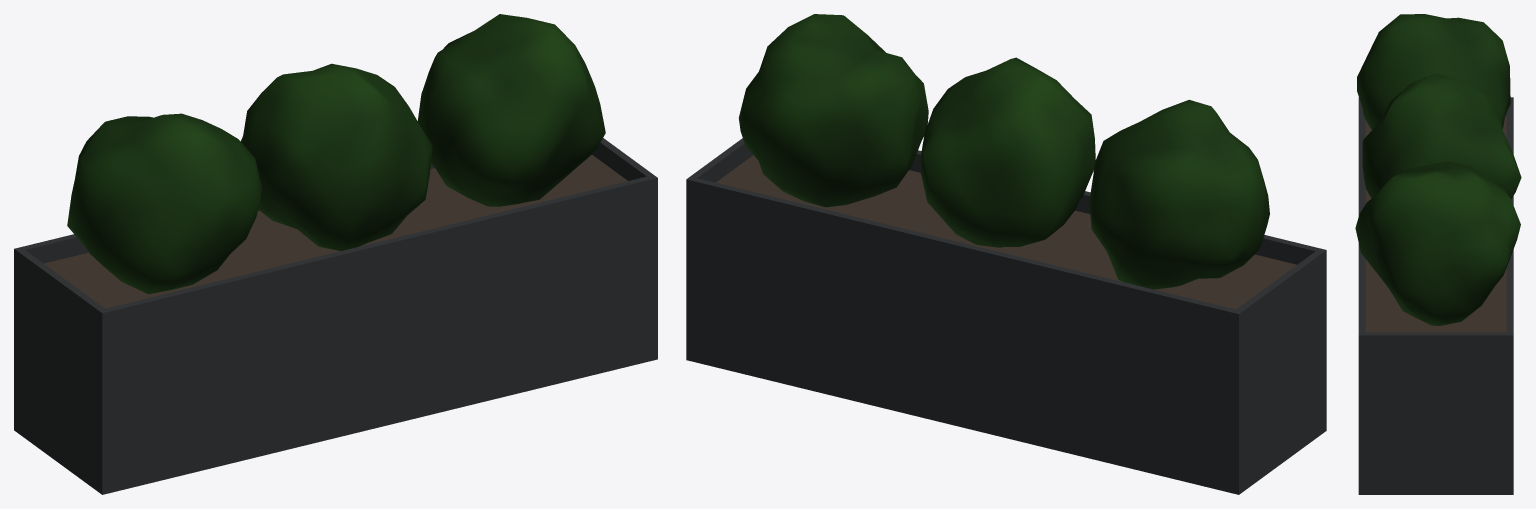
File: planter.glb
3 views of the same model, side by side, from view 1: azimuth 30°, elevation 25°; view 2: azimuth 150°, elevation 25°; view 3: azimuth 270°, elevation 25° (orthographic). The views are drawn at different scales.
Visible parts, largest first — view 1: metal, foliage.001, soil; view 2: metal, foliage.001, soil; view 3: foliage.001, metal, soil.
Part boxes in pixels (<box>): metal: <box>14,138,657,494</box>; foliage.001: <box>67,14,605,294</box>; soil: <box>44,155,627,308</box>; metal: <box>686,138,1326,494</box>; foliage.001: <box>738,14,1269,289</box>; soil: <box>716,155,1296,309</box>; foliage.001: <box>1355,14,1521,325</box>; metal: <box>1358,97,1513,494</box>; soil: <box>1365,116,1506,332</box>.
Size of the model in its own units: 1.6 by 0.9039 by 0.4716.
